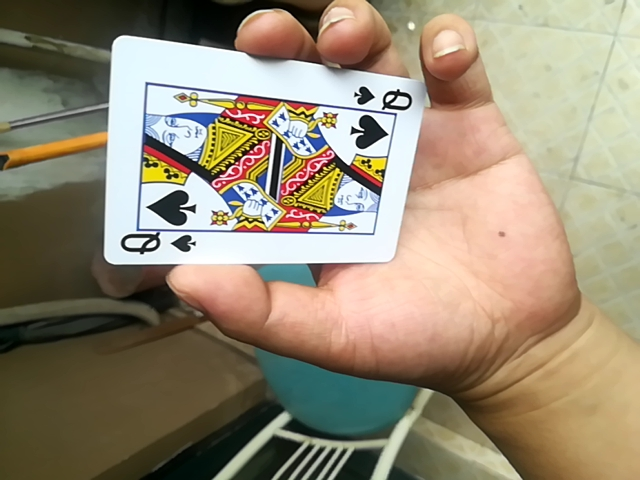ht q: (103, 35, 424, 269)
